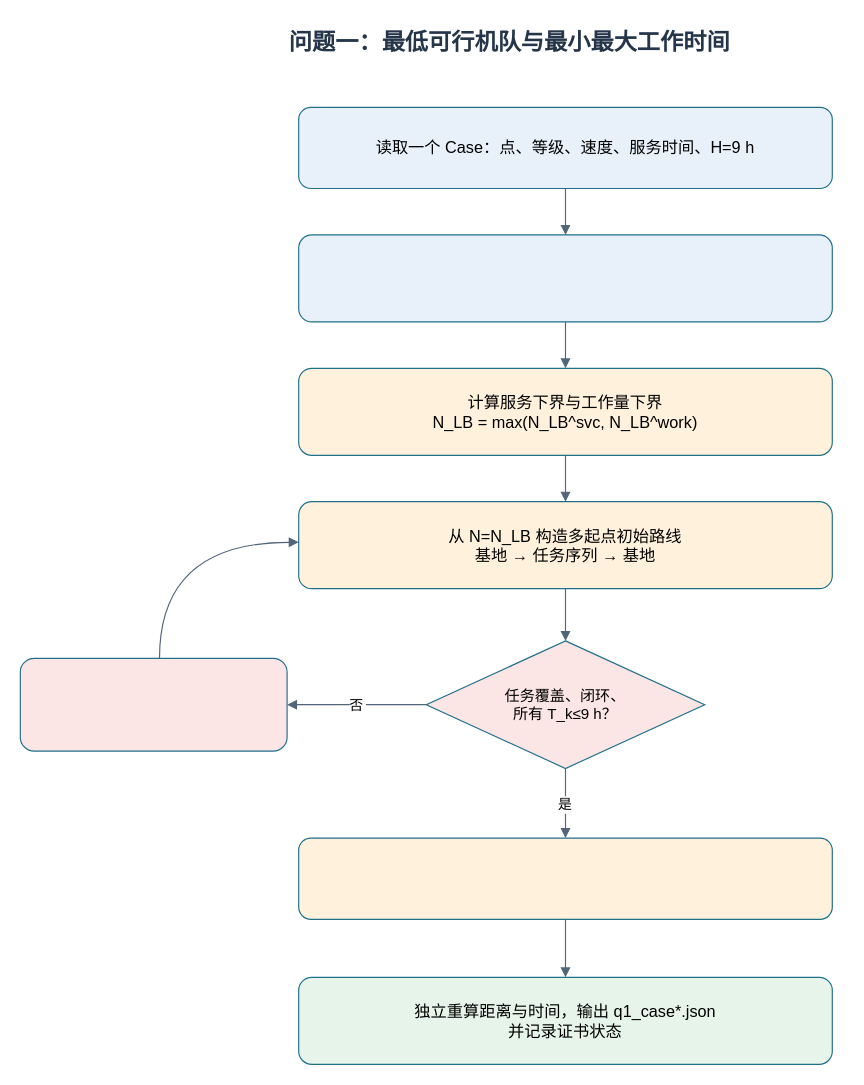
This 864x1085 diagram has some shape labels left out. Here are the shapes that lost their labels. From the top down, the centre of each, then its label:
(x=565, y=278): 展开 task_id；同一路线禁止相邻相同 Point_ID A-A-A=1 次，A-B-A=2 次
(x=153, y=704): 否：N←N+1，重新构造 不可把未找到写成不可行
(x=565, y=878): 固定当前 N，局部搜索最小化 C=max_k T_k
